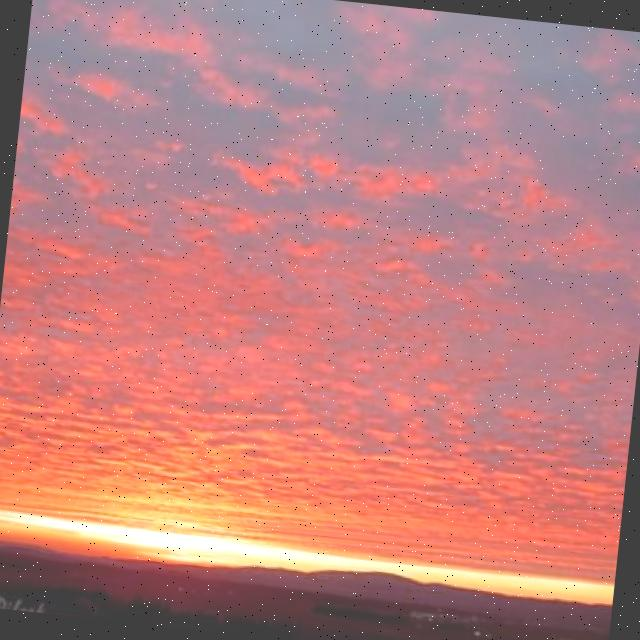Ac: (1, 1, 640, 549)
